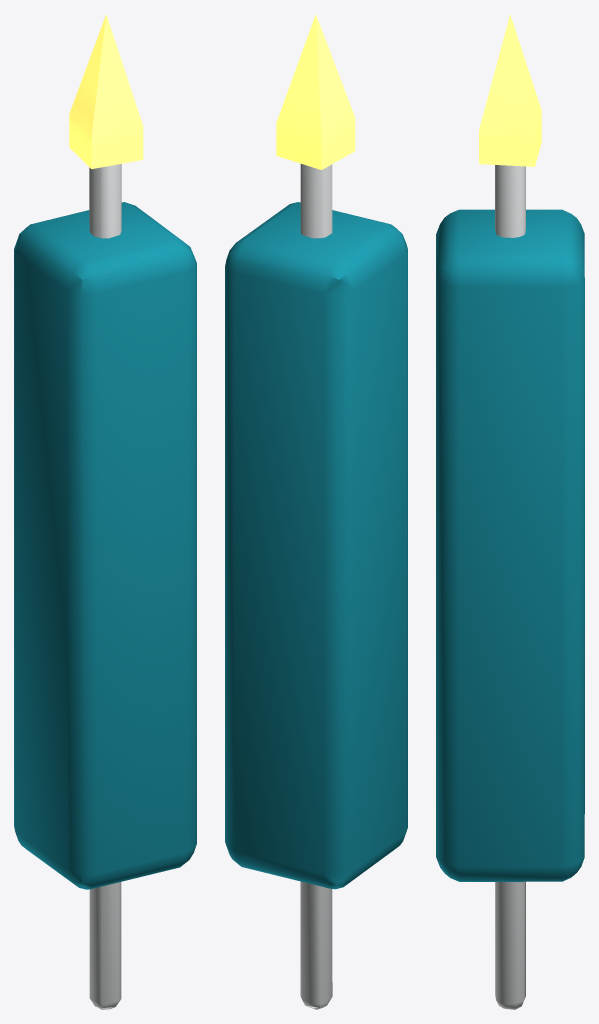
Rendered from tinyJapCanOnly.glb.
3 renders of one model, left to right at view 1: azimuth 30°, elevation 25°; view 2: azimuth 150°, elevation 25°; view 3: azimuth 270°, elevation 25°, orthographic.
Parts seen in each view (by area): view 1: Wax, Flame, Wick; view 2: Wax, Flame, Wick; view 3: Wax, Flame, Wick.
Boxes of the visible parts, x1,y1,x2,y2 form: Wax: [14, 202, 196, 889]; Flame: [69, 14, 143, 169]; Wick: [89, 164, 121, 1009]; Wax: [225, 202, 407, 889]; Flame: [276, 14, 355, 169]; Wick: [300, 164, 332, 1009]; Wax: [436, 209, 584, 881]; Flame: [479, 14, 541, 166]; Wick: [495, 165, 525, 1009].
Bounding box in the file's own units: 0.3668 × 2.71 × 0.3668.
